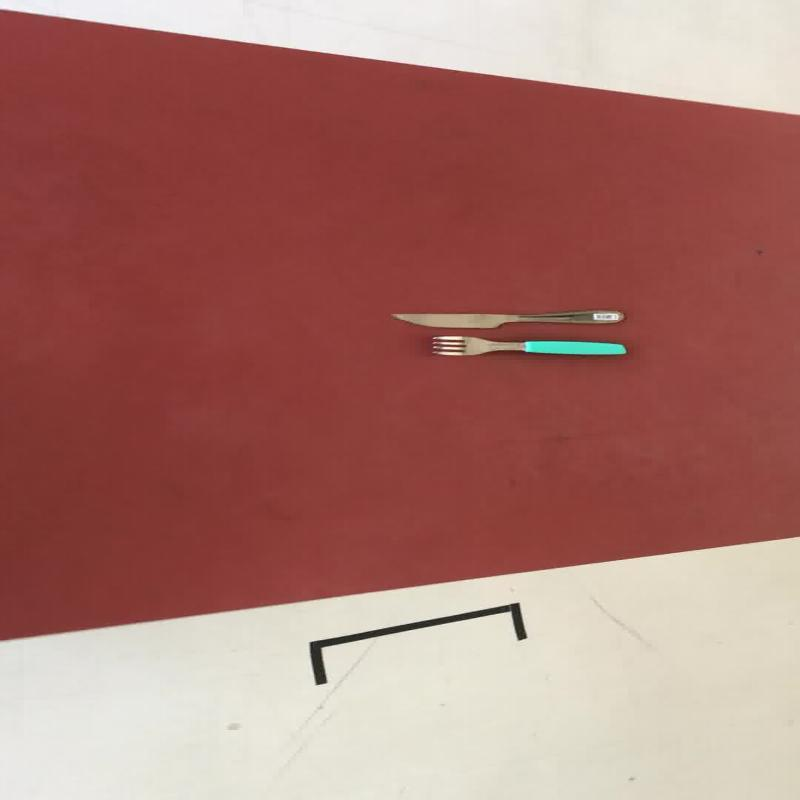fork: (427, 334, 626, 356)
knife: (389, 308, 623, 330), (428, 334, 626, 356)
